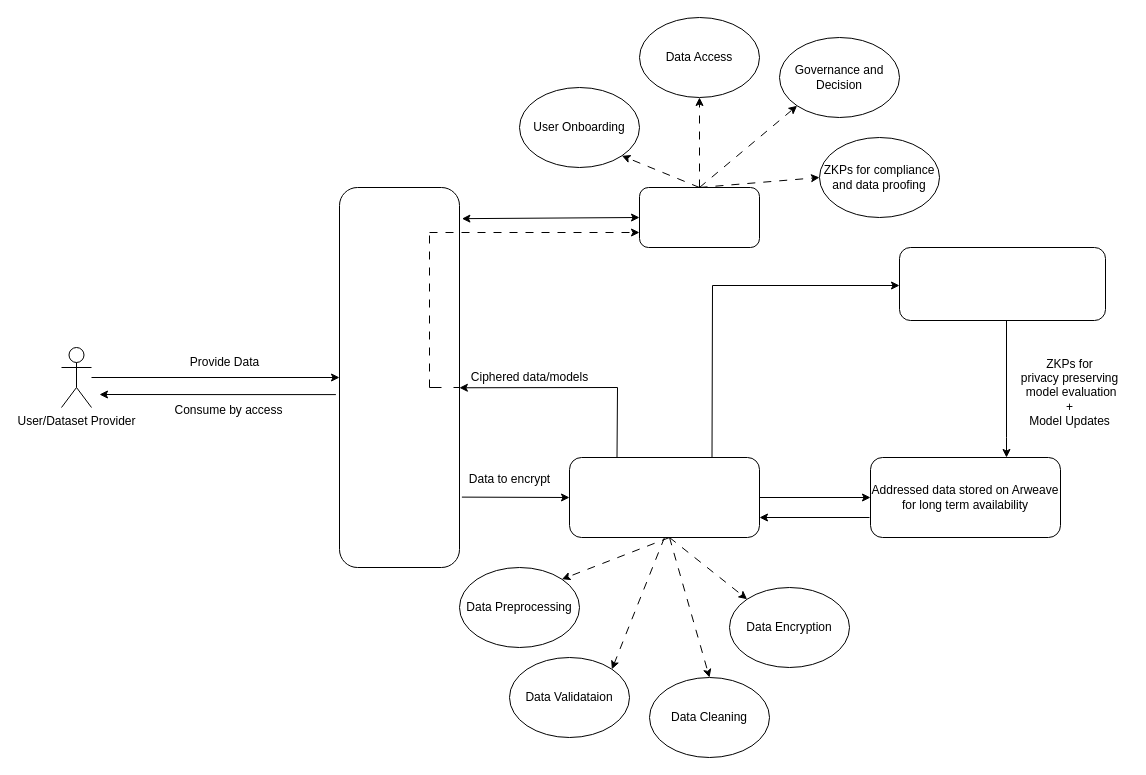
Some shapes in this 1146 by 775 pixel diagram are drawn without their labels. The centre of each missing label's shape, as x and y in pixels:
Interface for MPC and Data Interaction: the point at 399,377
Network of MPC Nodes Encryption and Content Addressing Data: the point at 664,497
Smart Contract on Arweave: the point at 699,217
Using Node Network for Federated Learning ML models on Encrypted Data: the point at 1002,283
